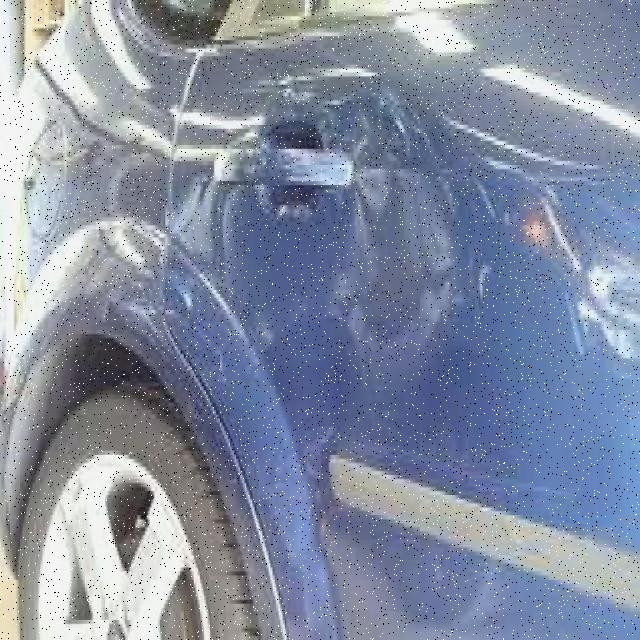car damage: (115, 96, 458, 640)
